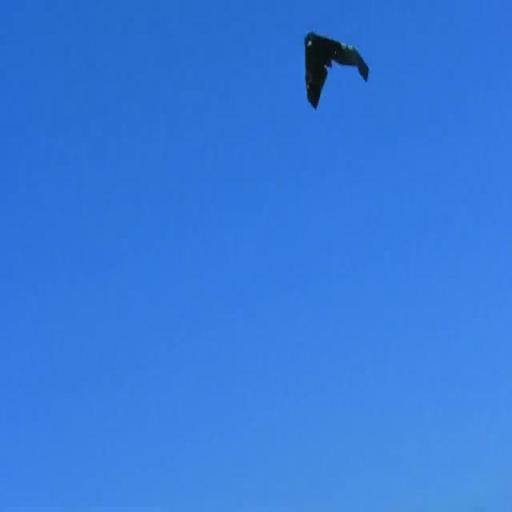uav: (302, 26, 374, 119)
